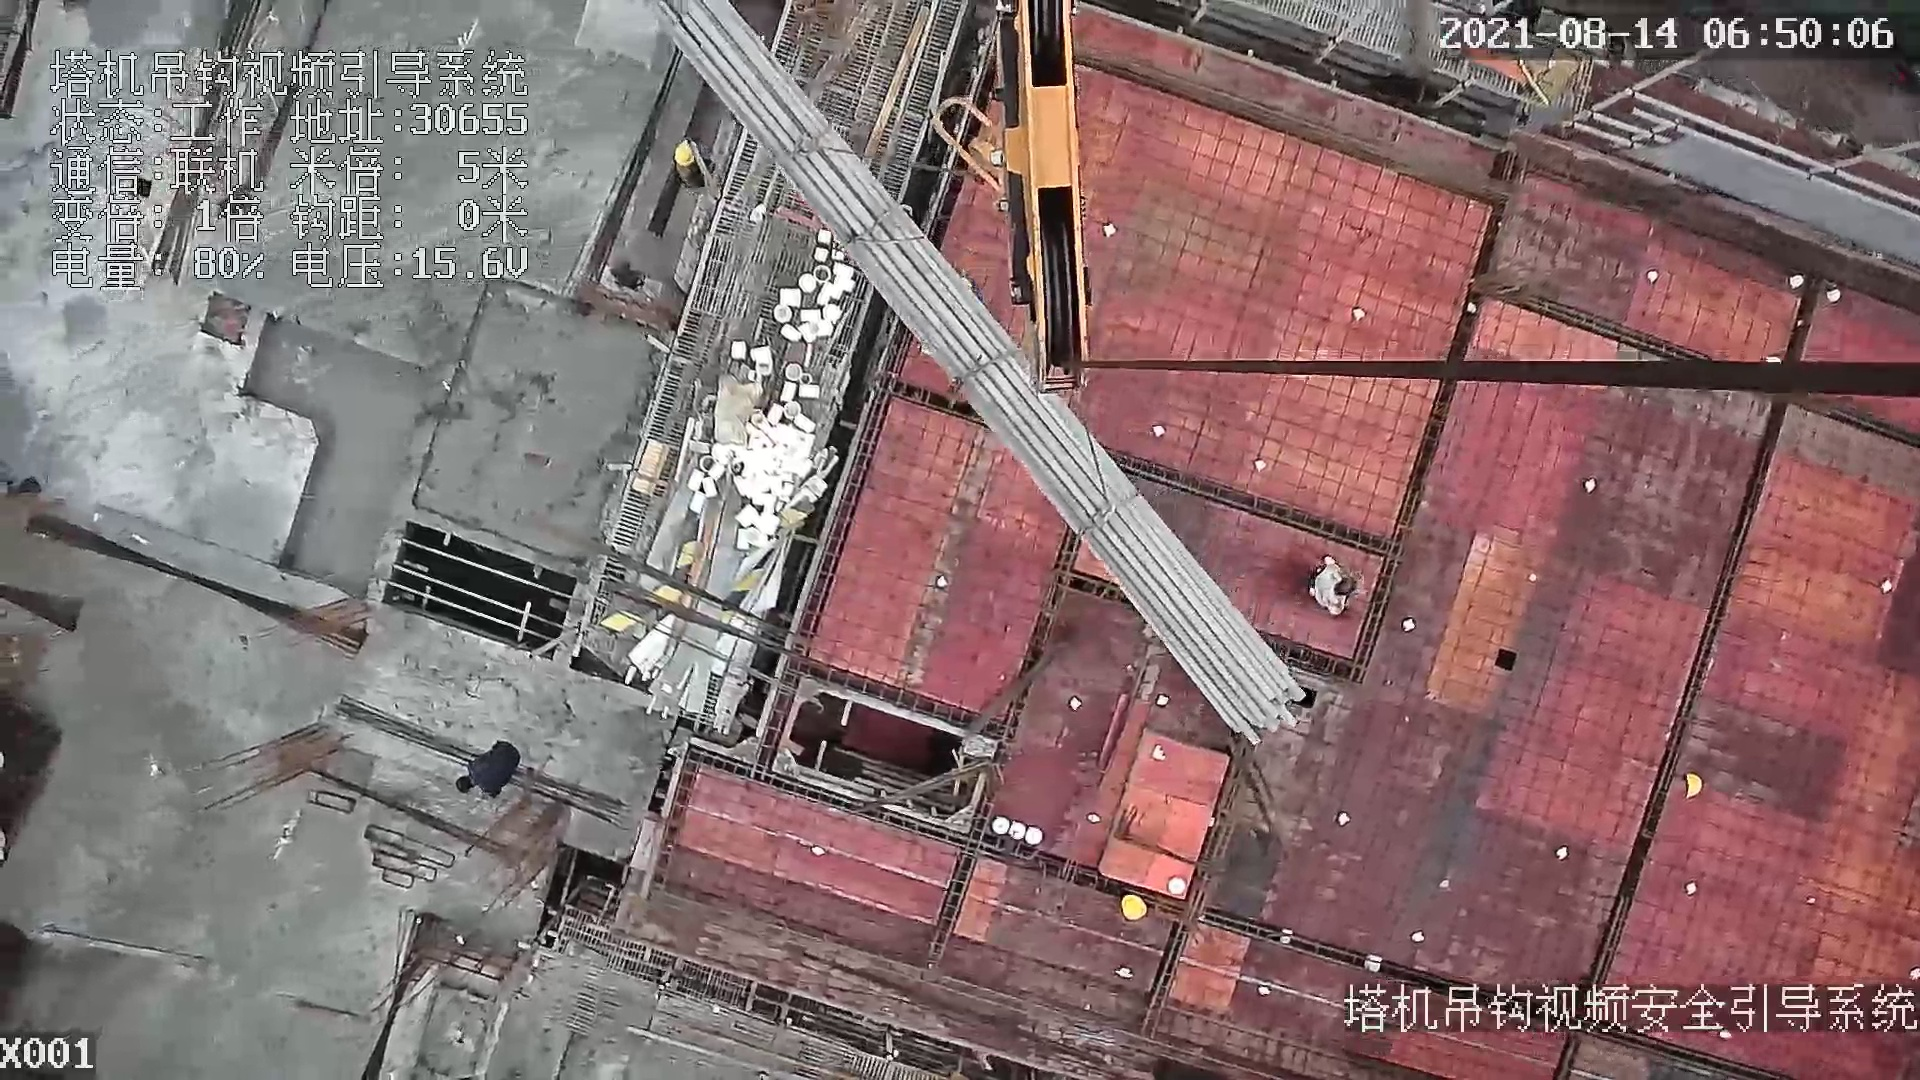helmet: (1671, 762, 1724, 819), (1111, 894, 1159, 927), (668, 135, 709, 171)
hook: (927, 10, 1099, 394)
person: (453, 735, 526, 806), (1309, 554, 1351, 623)
